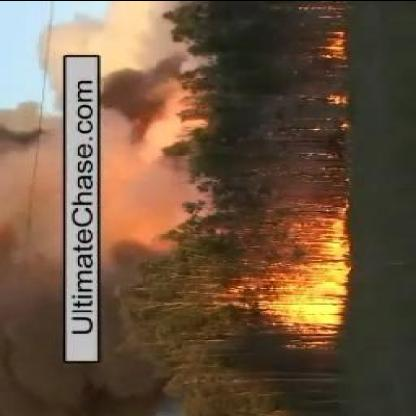-: (0, 100, 58, 368), (102, 51, 170, 257)
foggia-v2-map80-epoch100 - v1 4323: (235, 233, 347, 320)
